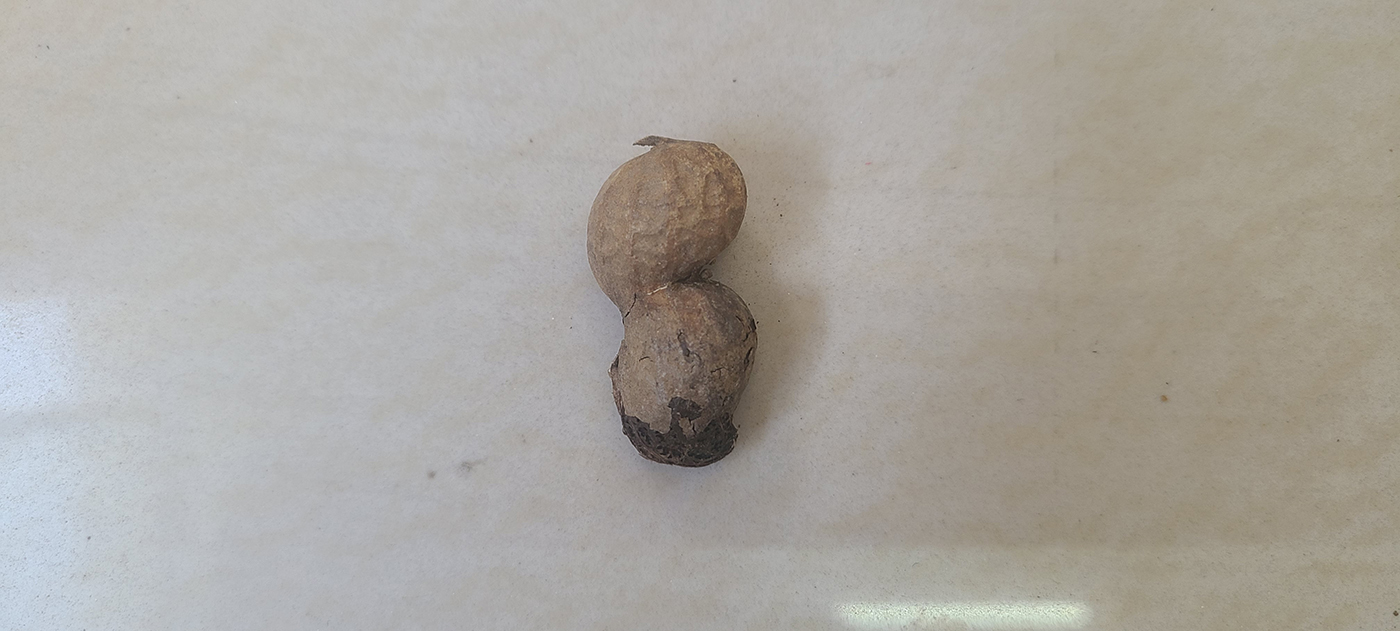l: (583, 136, 761, 472)
